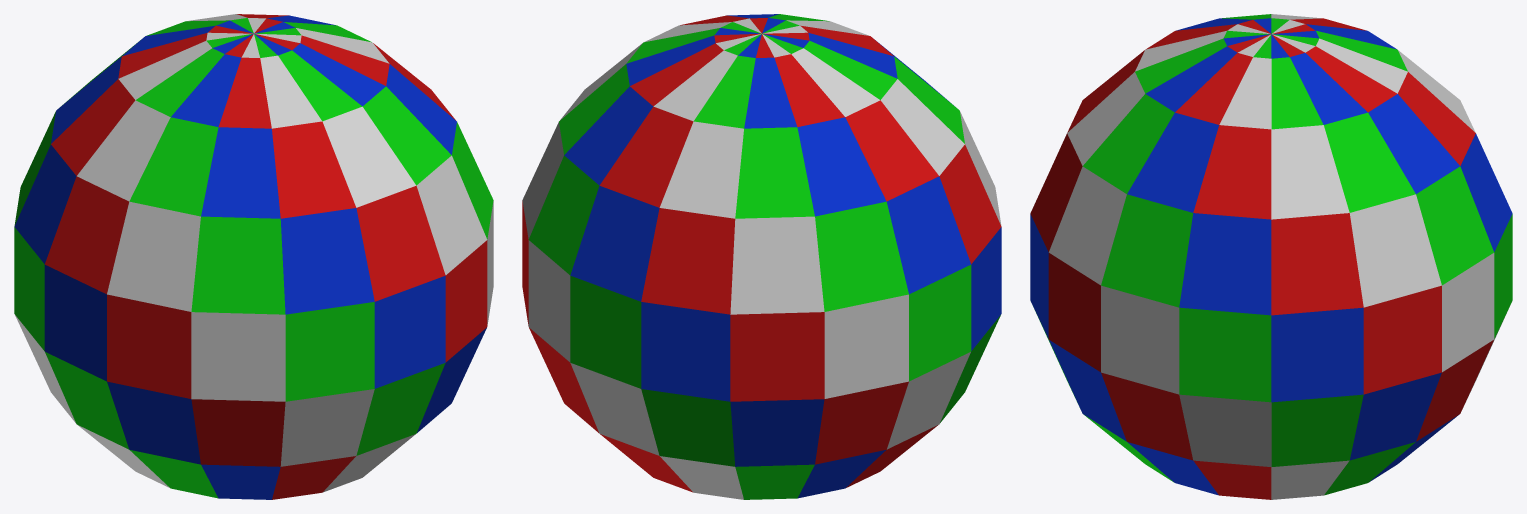
The model's file is colored_sphere.obj.
3 renders of one model, left to right at view 1: azimuth 30°, elevation 25°; view 2: azimuth 150°, elevation 25°; view 3: azimuth 270°, elevation 25°, orthographic.
Visible parts, largest first — view 1: Sphere; view 2: Sphere; view 3: Sphere.
Part boxes in pixels (x1=…): Sphere: x1=14, y1=14, x2=493, y2=499; Sphere: x1=522, y1=14, x2=1001, y2=499; Sphere: x1=1030, y1=14, x2=1512, y2=499.
Size of the model in its own units: 1.96 by 2 by 1.96.
